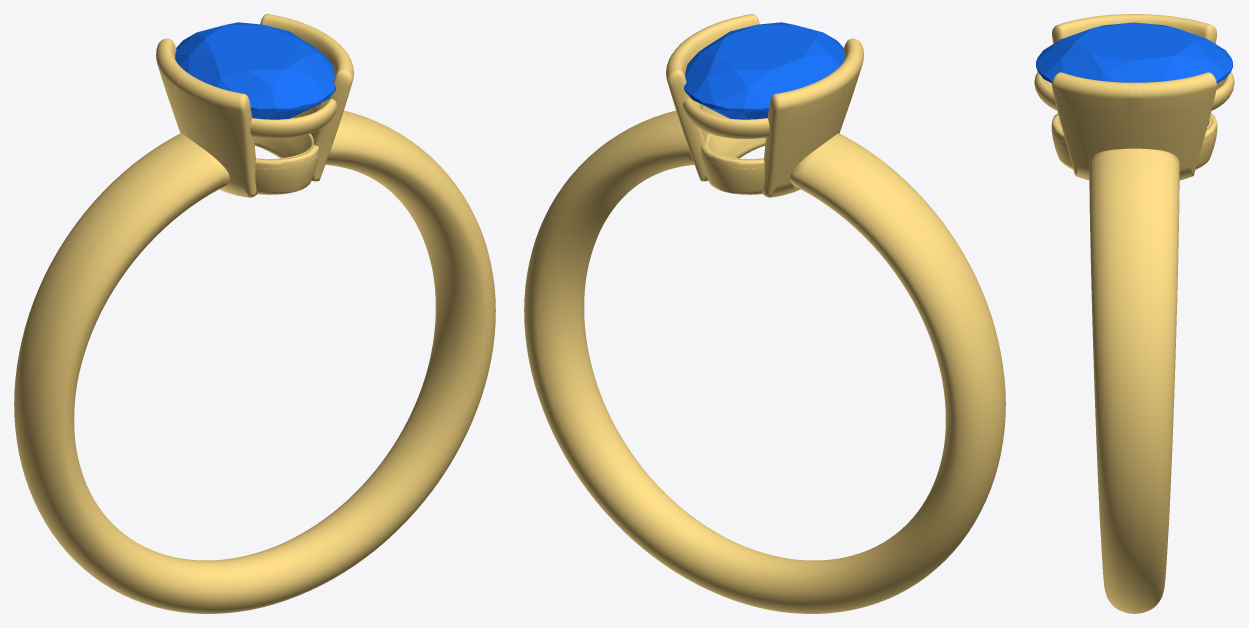
The model's file is bluesapphire-oval-yellowgold-halfmoonbezel-taperedband-nosidestones.glb.
3 renders of one model, left to right at view 1: azimuth 30°, elevation 25°; view 2: azimuth 150°, elevation 25°; view 3: azimuth 270°, elevation 25°, orthographic.
Visible parts, largest first — view 1: metal, stone; view 2: metal, stone; view 3: metal, stone.
Part boxes in pixels (x1,y1,x2,y2): metal: (14, 14, 495, 613); stone: (175, 22, 335, 119); metal: (524, 14, 1005, 613); stone: (684, 22, 844, 119); metal: (1034, 14, 1234, 613); stone: (1036, 22, 1232, 83).
Size of the model in its own units: 20.5 by 23.4 by 7.75.
